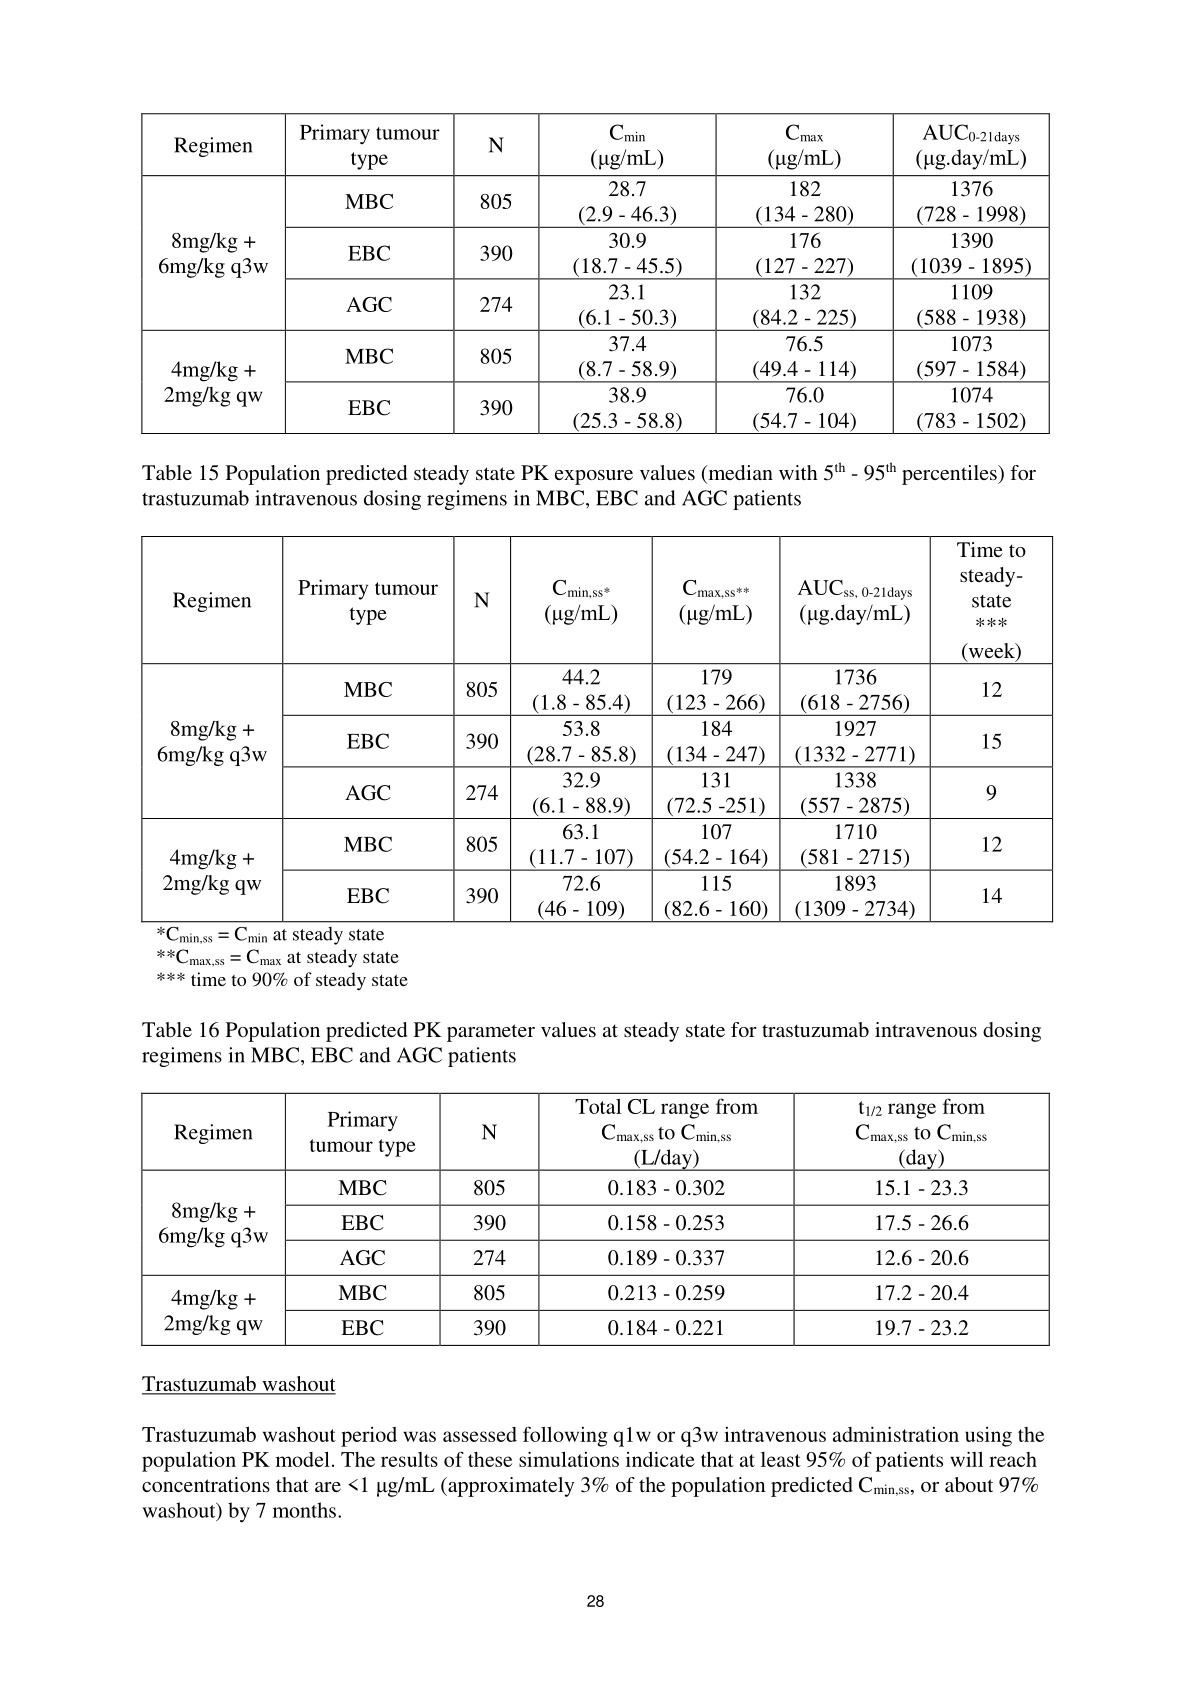merged_cells: (140, 535, 1053, 923), (139, 112, 1051, 437), (140, 1091, 1051, 1347)
